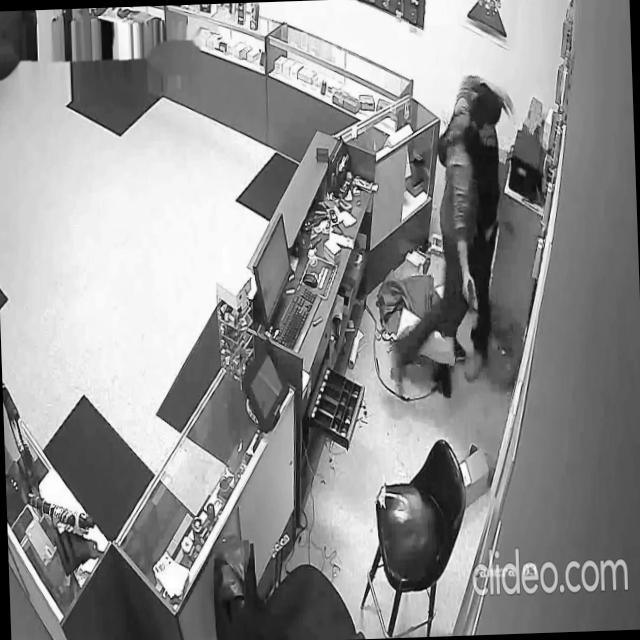gun: (466, 275, 476, 316)
person: (434, 86, 507, 384)
person with a gun: (382, 70, 524, 392)
